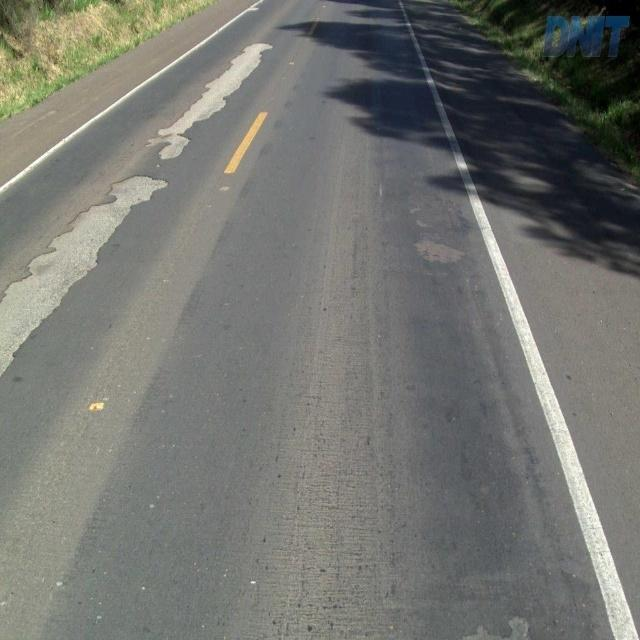pothole: (0, 162, 163, 366), (153, 41, 273, 160), (465, 610, 536, 639), (411, 232, 469, 267)
